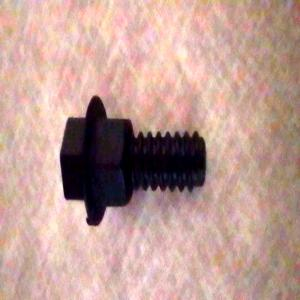parafuso: (59, 93, 207, 226)
